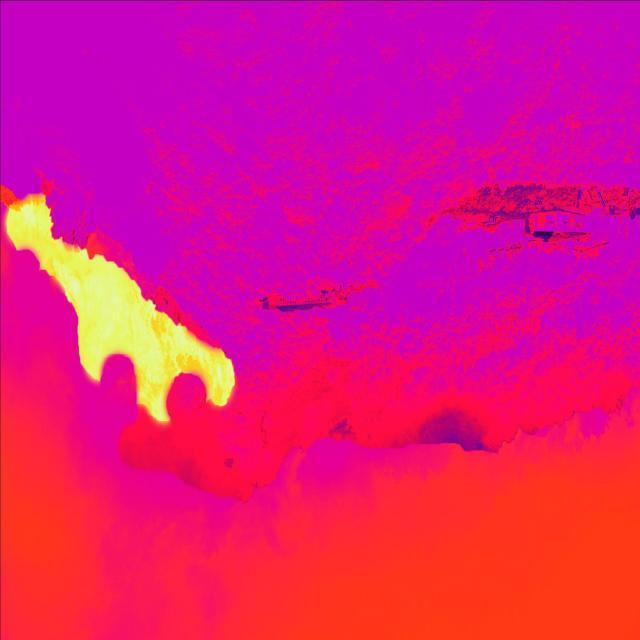fire: (14, 188, 242, 424)
